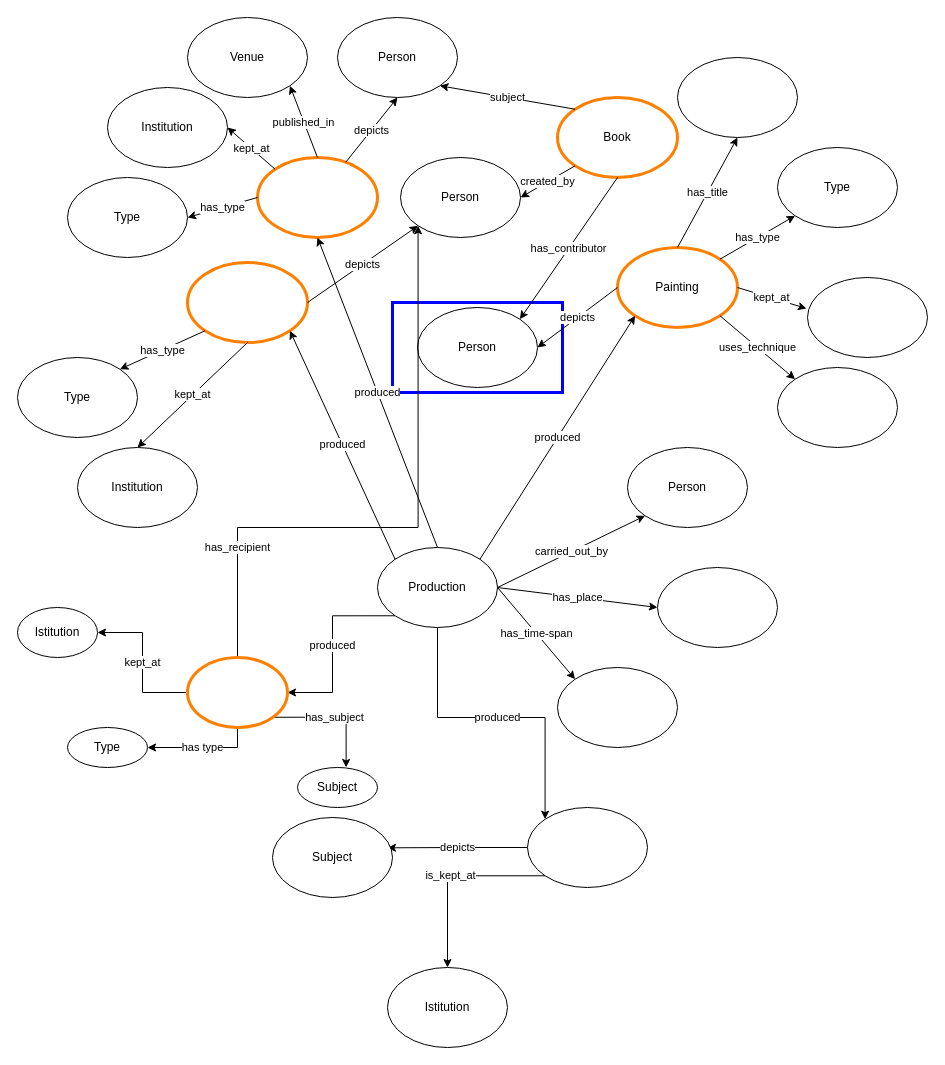
Image size: 945x1065. Some labels were removed from this diagram. The box of each missing label's shape, as (x1, y1, x2, y2) in pixels:
Draft: (526, 806, 648, 888)
Insitution: (806, 276, 928, 358)
Letter: (186, 656, 288, 728)
Photography: (186, 260, 308, 344)
Place: (656, 566, 778, 648)
Scan: (256, 156, 378, 238)
Technique: (776, 366, 898, 448)
Time-Span: (556, 666, 678, 748)
Title: (676, 56, 798, 138)
